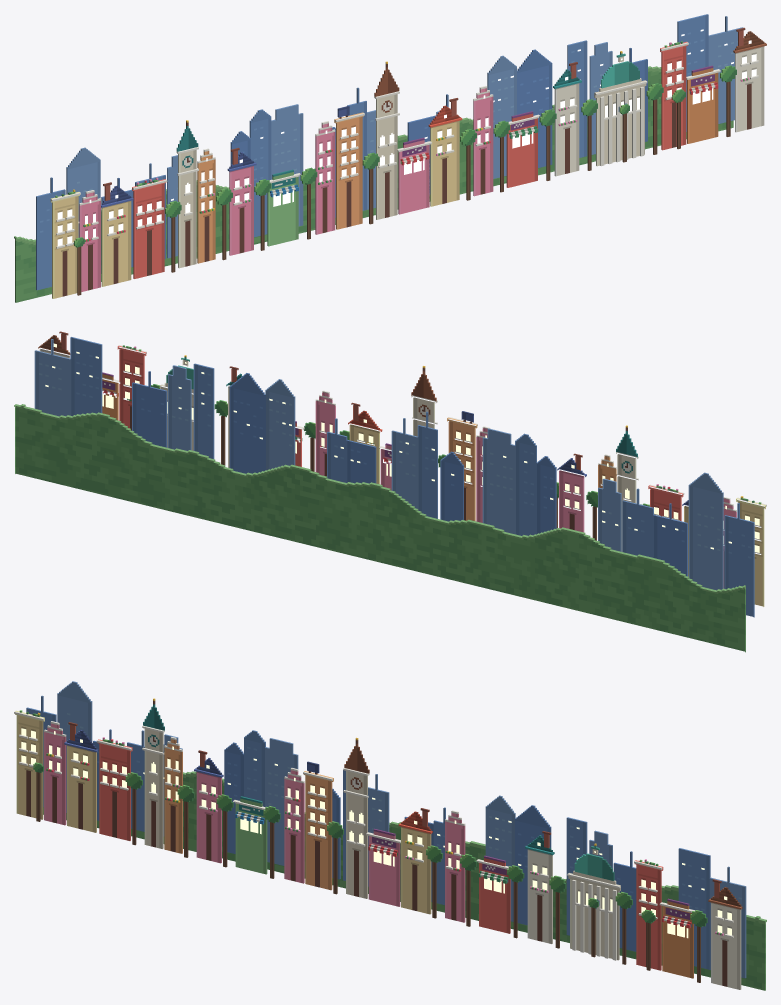
Rendered from backdrop_voxel_city.glb.
3 views of the same model, one above another, from view 1: azimuth 30°, elevation 25°; view 2: azimuth 150°, elevation 25°; view 3: azimuth 330°, elevation 25° (orthographic).
Visible parts, largest first — view 1: City.001, Far, Windows; view 2: Far, City.001, Windows; view 3: City.001, Far, Windows.
Boxes of the visible parts, left/top/right/bottom form: City.001: left=50, top=27, right=766, bottom=298; Far: left=14, top=14, right=743, bottom=302; Windows: left=57, top=29, right=756, bottom=245; Far: left=14, top=337, right=754, bottom=652; City.001: left=38, top=331, right=766, bottom=606; Windows: left=45, top=343, right=759, bottom=552; City.001: left=14, top=698, right=742, bottom=989; Far: left=26, top=681, right=766, bottom=990; Windows: left=21, top=728, right=731, bottom=938.
Size of the model in its own units: 90.6 by 21.2 by 7.
